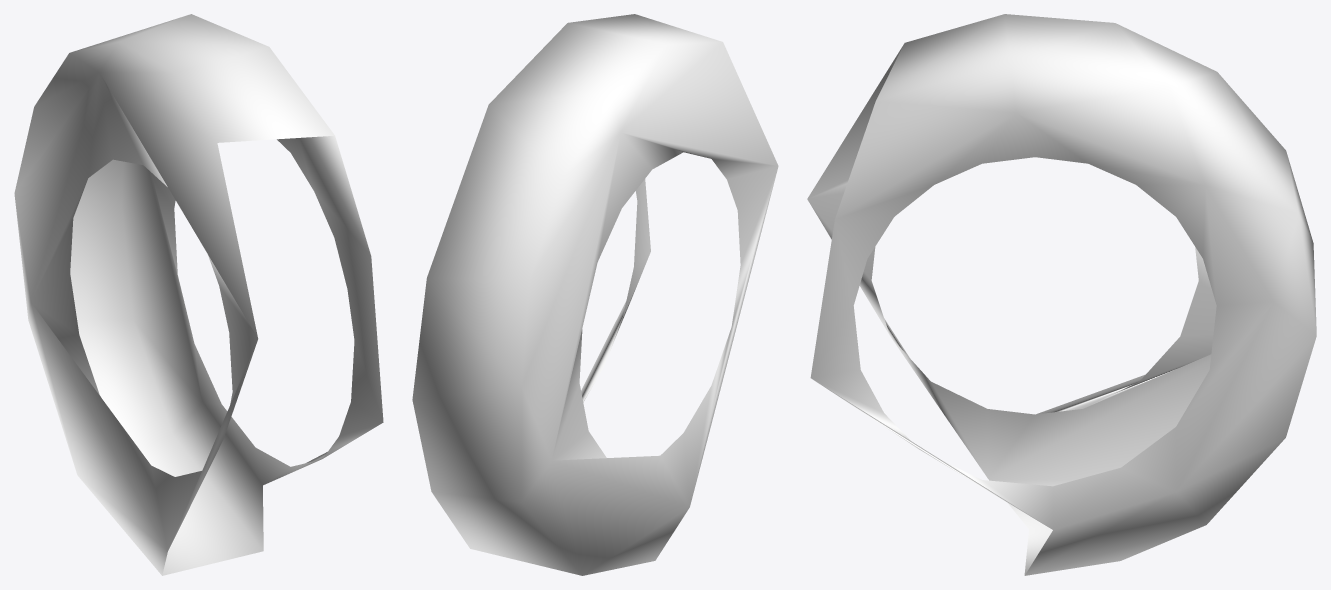
3 views of the same model, side by side, from view 1: azimuth 30°, elevation 25°; view 2: azimuth 150°, elevation 25°; view 3: azimuth 270°, elevation 25° (orthographic).
Size of the model in its own units: 0.1603 by 0.6124 by 0.5484.
1 material, 1 textured.
